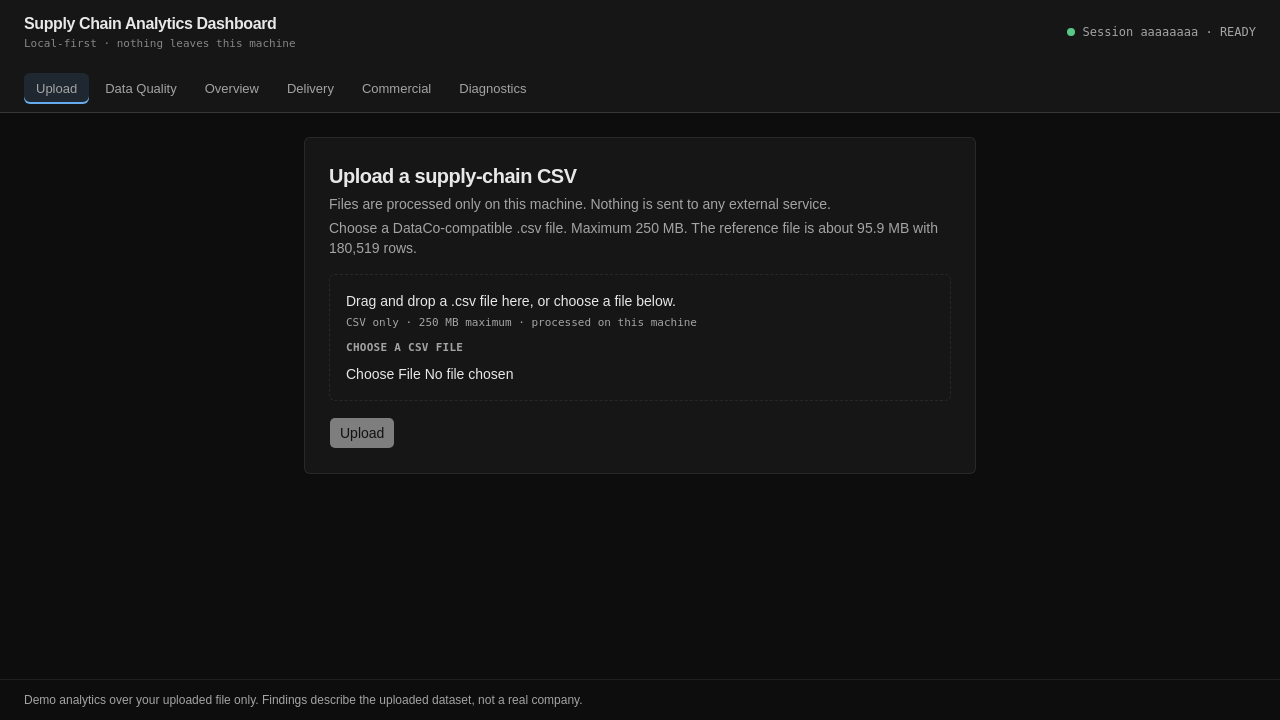
Test: Slice B: filter scope summary › derives the summary from existing state and clears back to default
Click the button "Overview" at (232, 88), box [193,72,271,104]
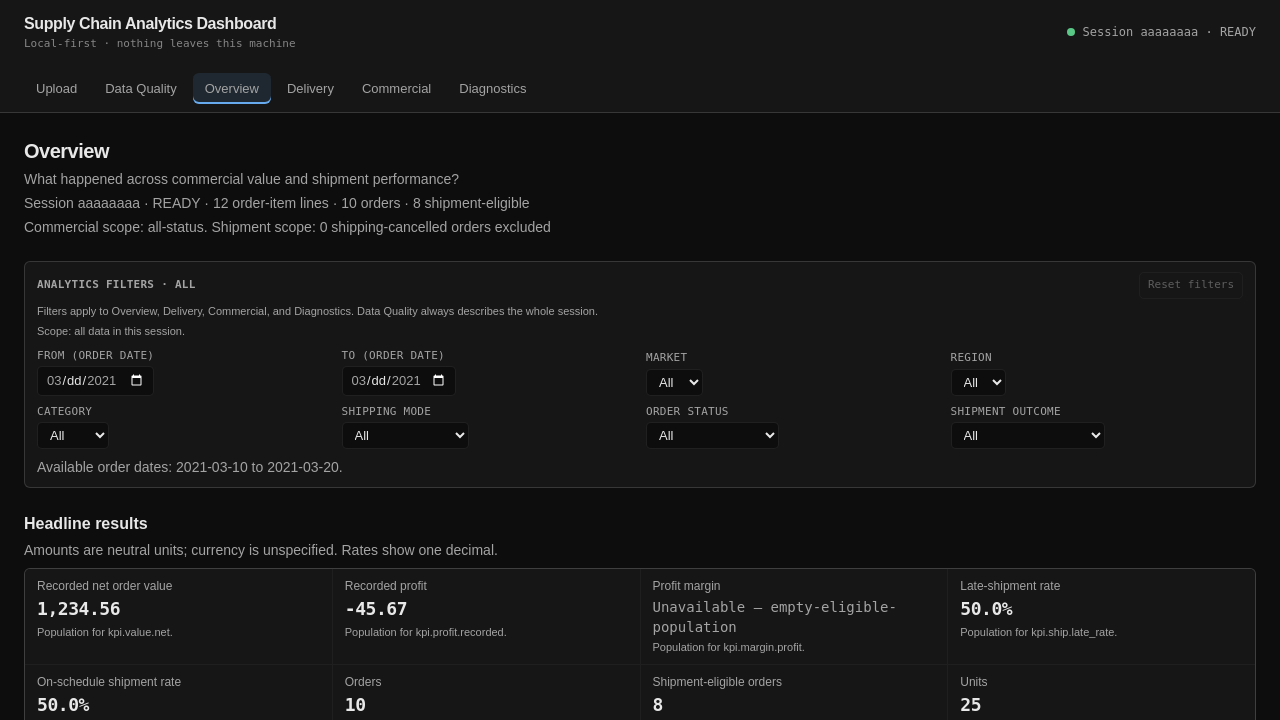
Select "M1" in the dropdown labelled "Market" at (674, 382), box [646,368,703,396]
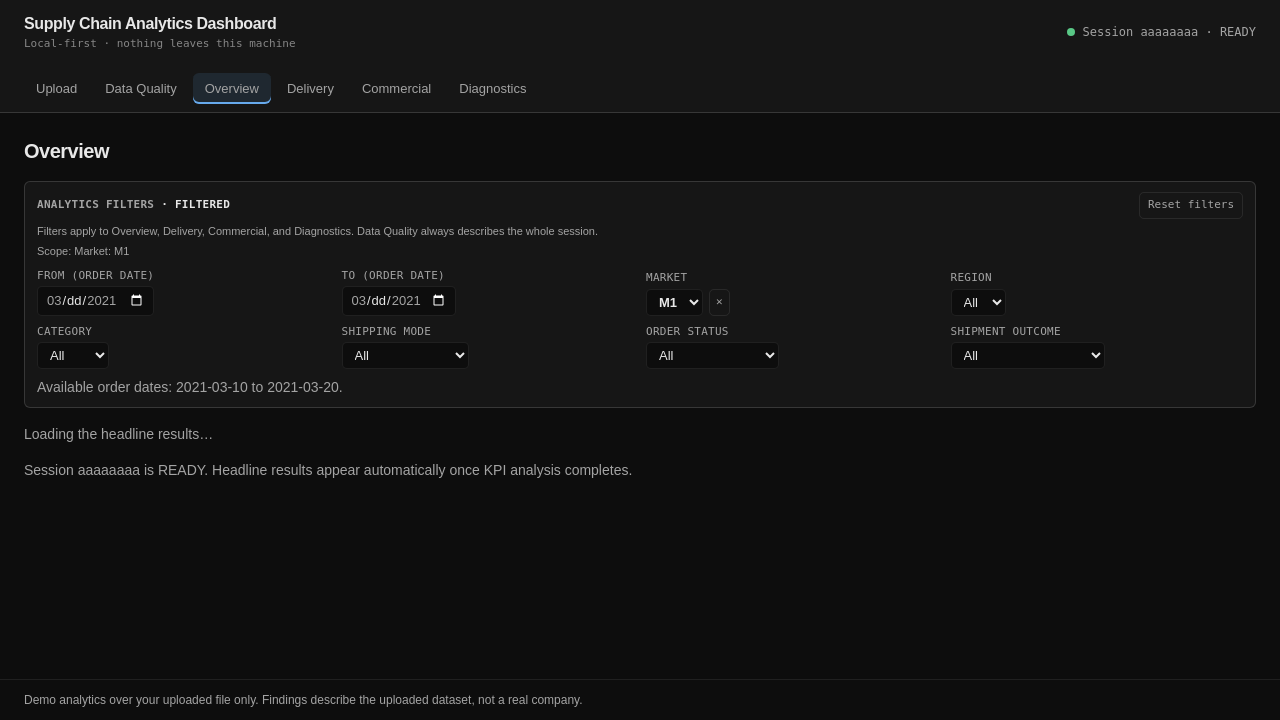
Check: the text "Scope: Market: M1" is shown, box [37,245,129,257]
Click the button named "clear market filter" at (719, 302), box [709,289,730,316]
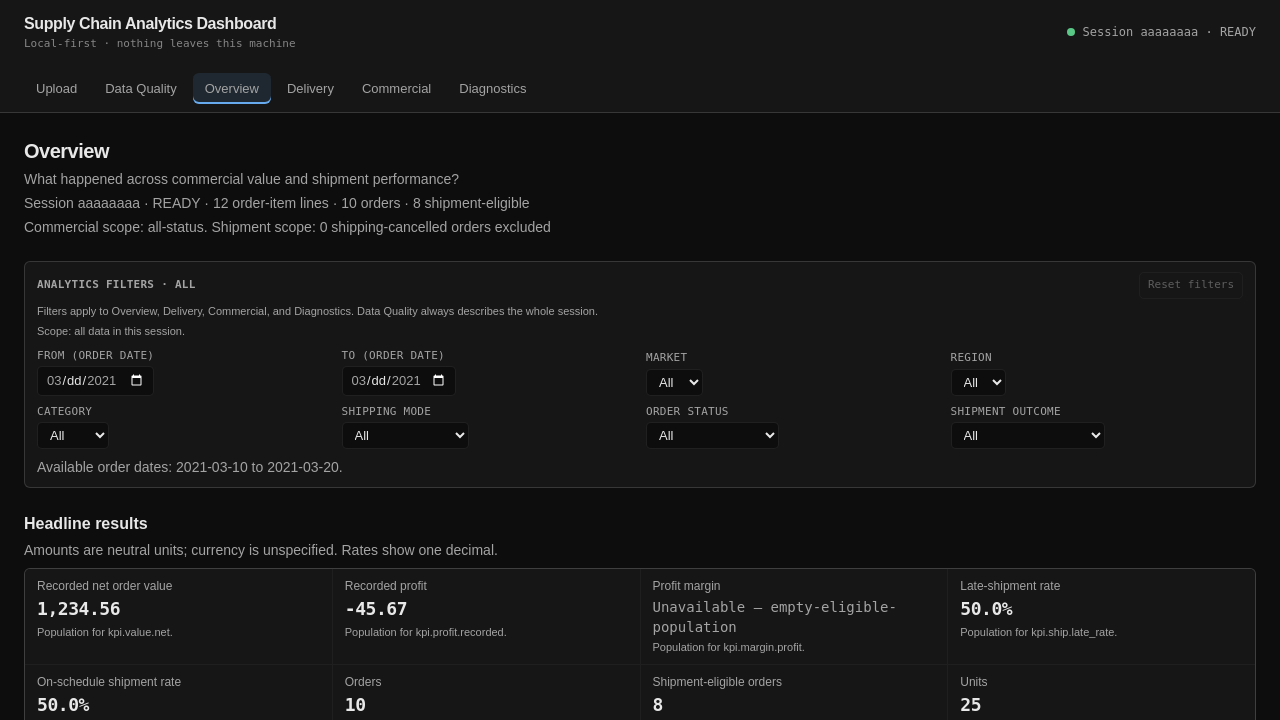
Check: the dropdown labelled "Market" shows "All", box [646,368,703,396]
Check: the text "Scope: all data in this session." is shown, box [37,325,185,337]
Check: the button "Reset filters" is disabled, box [1139,272,1243,298]
